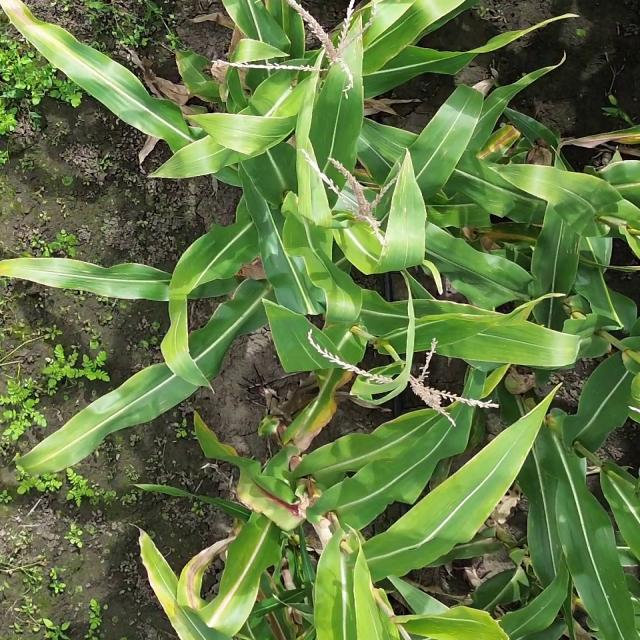gray-leaf-spot: (42, 257, 140, 295), (391, 165, 421, 263), (142, 379, 219, 415), (458, 173, 517, 215), (548, 210, 584, 260), (423, 209, 470, 232)
northern-leaf-blight: (22, 10, 124, 90), (180, 558, 246, 628), (478, 129, 528, 161)
